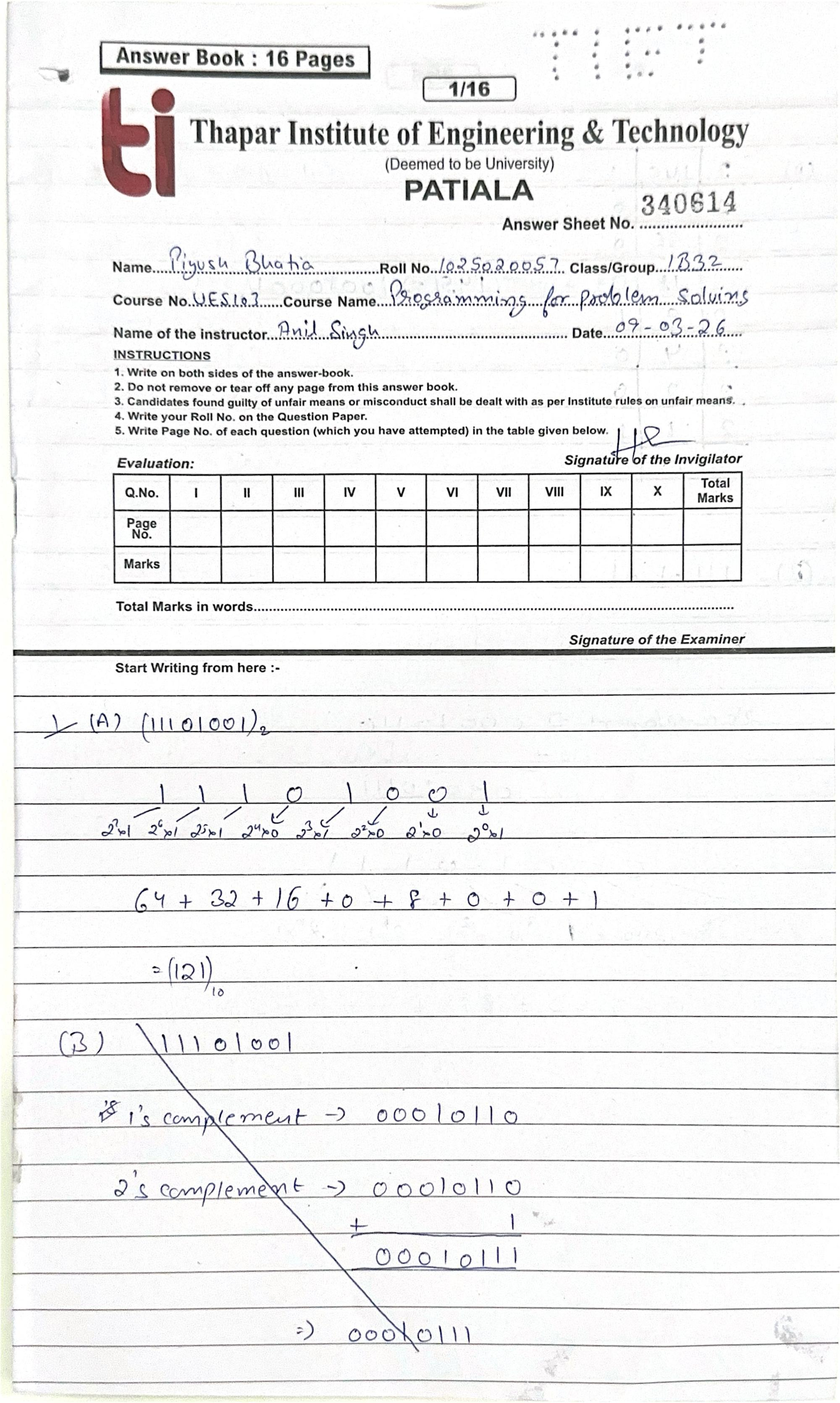cuttings: (97, 1020, 529, 1355)
